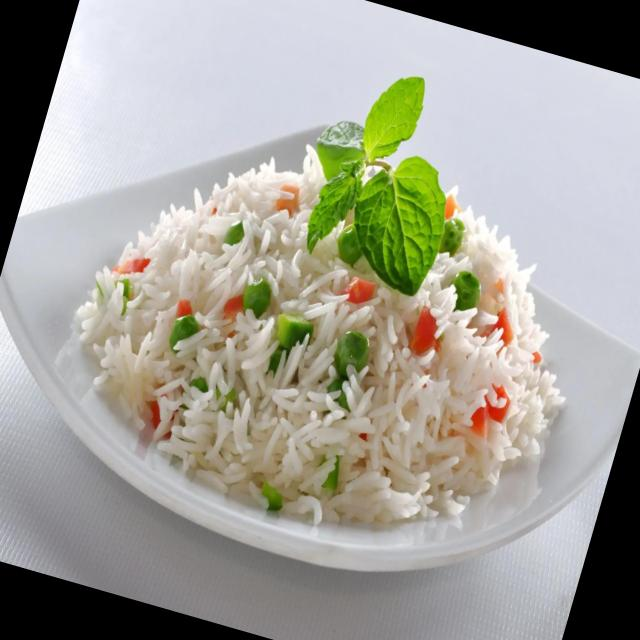rice: (68, 152, 563, 526)
